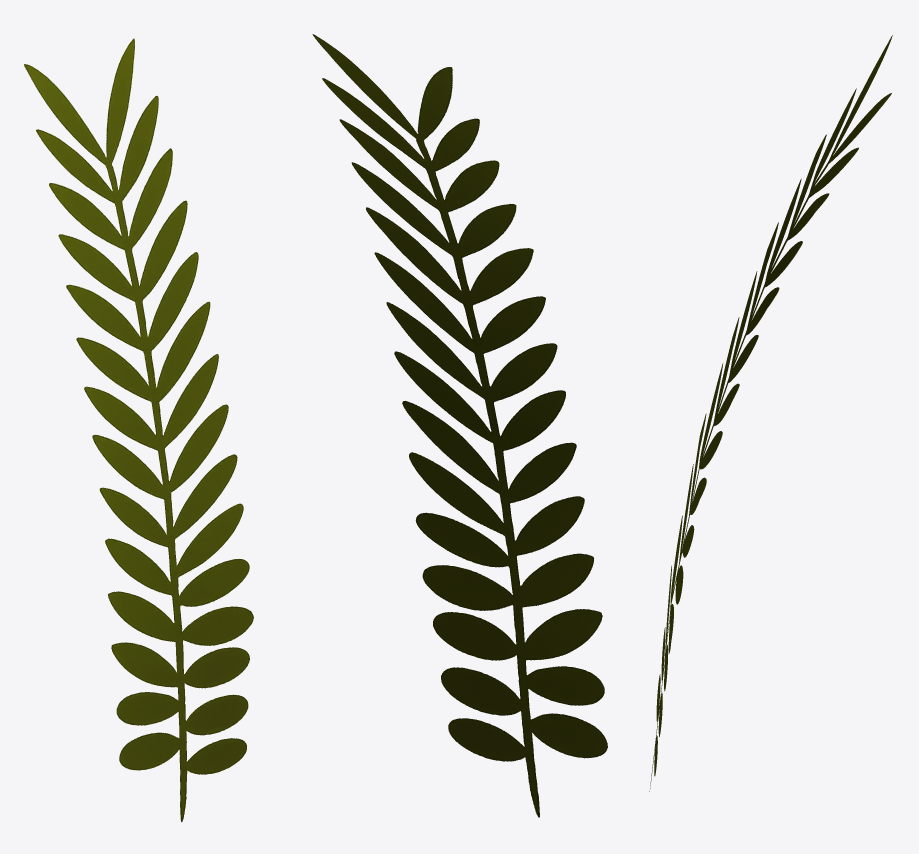
The model's file is Foliage_Set_1_Long_Leaves.fbx.
3 views of the same model, side by side, from view 1: azimuth 30°, elevation 25°; view 2: azimuth 150°, elevation 25°; view 3: azimuth 270°, elevation 25° (orthographic). The views are drawn at different scales.
Visible parts, largest first — view 1: Foliage_Set_1_Long_Leaves; view 2: Foliage_Set_1_Long_Leaves; view 3: Foliage_Set_1_Long_Leaves.
Part boxes in pixels (left/top/right/bottom): Foliage_Set_1_Long_Leaves: left=24, top=38, right=253, bottom=821; Foliage_Set_1_Long_Leaves: left=312, top=34, right=607, bottom=817; Foliage_Set_1_Long_Leaves: left=649, top=35, right=892, bottom=791.
Size of the model in its own units: 42.6 by 192 by 58.82.
